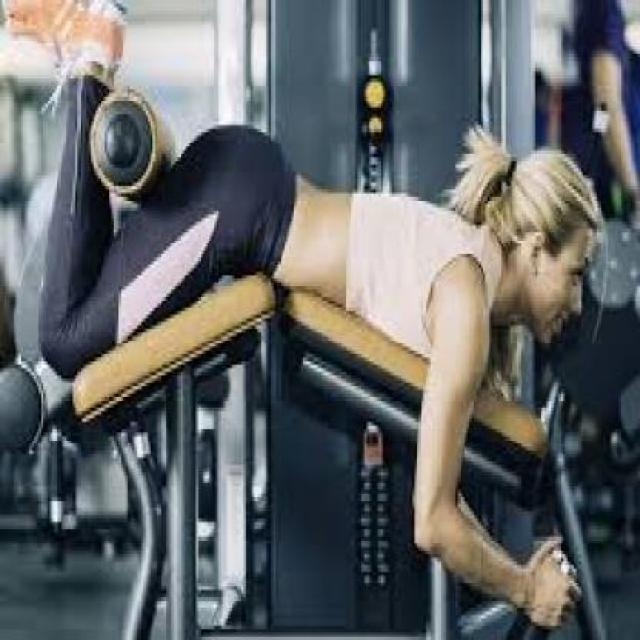reg curl machine: (1, 0, 598, 638)
